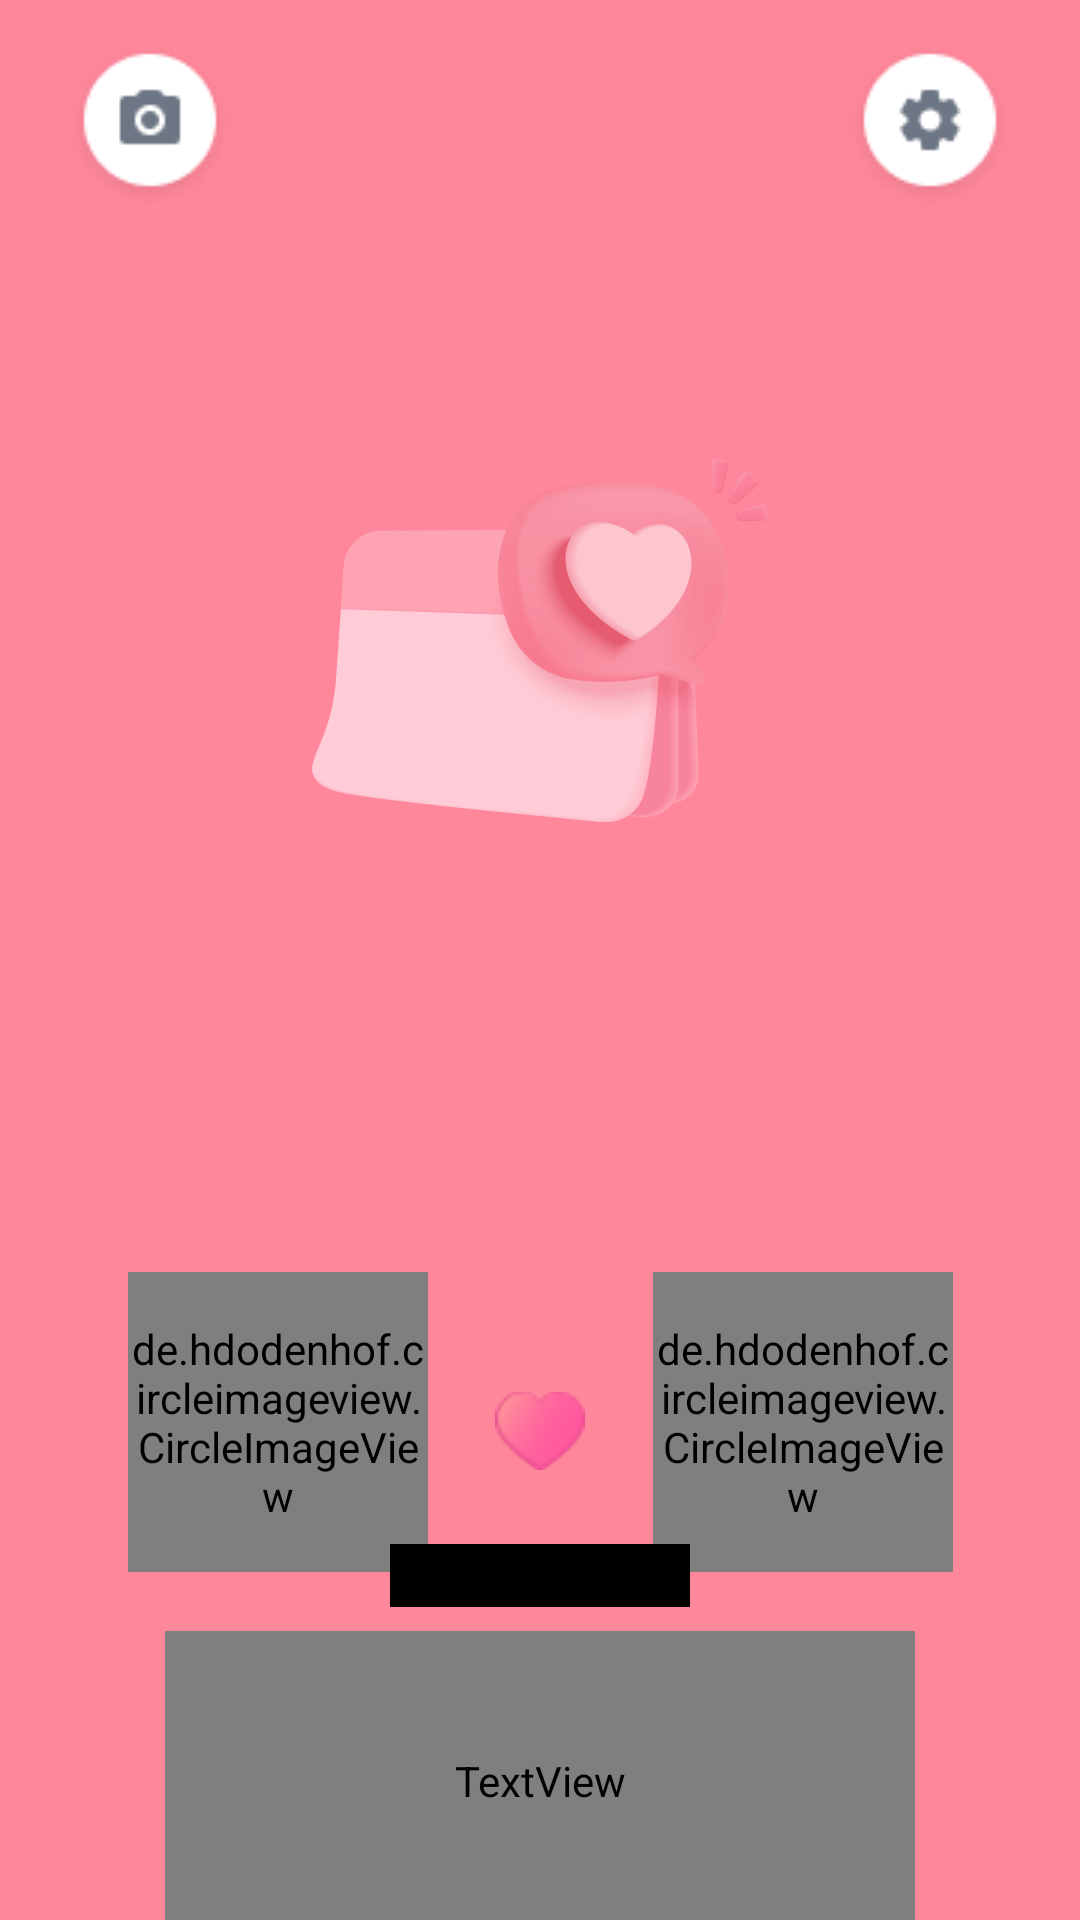

Where to tap for icons on this 1080px x 1920px app screen, as [x,y]:
heart middle: [540,1431]
photo: [150,120]
setting: [930,120]
